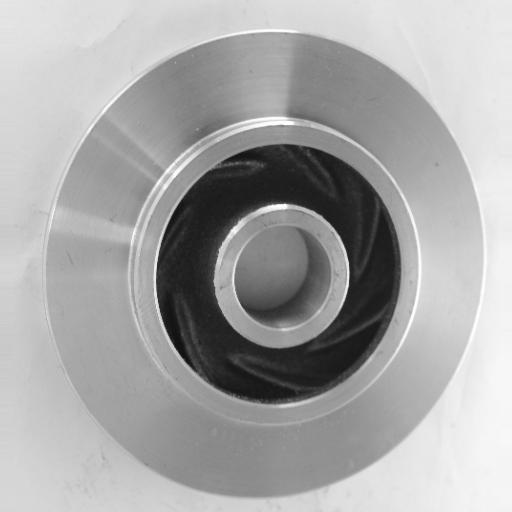polished_casting: (44, 26, 484, 500)
